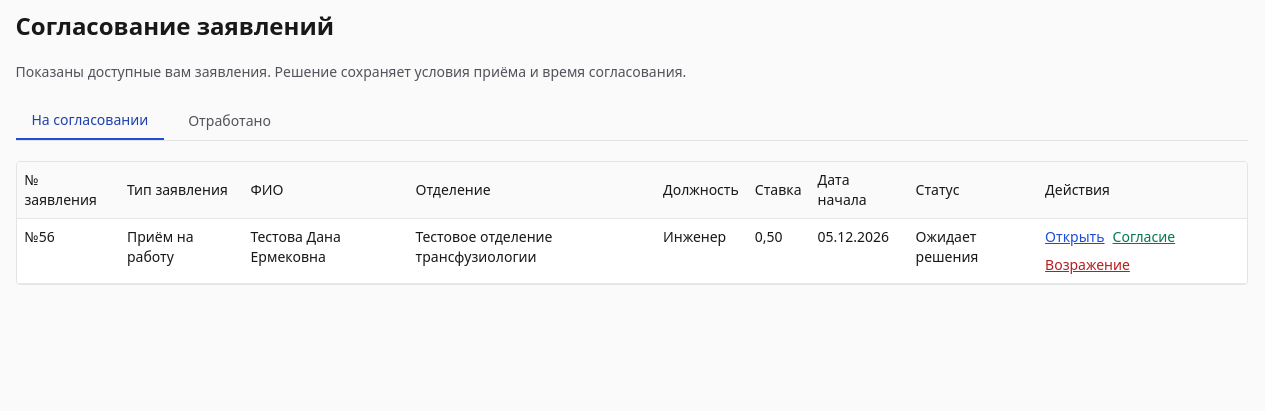
Test: HireApprovalsClient › separates pending from approved and rejected applications
Expected: the table is shown, [16,162,1246,284]
Expected: the cell "№56" is shown, [16,218,119,284]
Click the button "Отработано" at (230, 121), box [172,102,287,140]
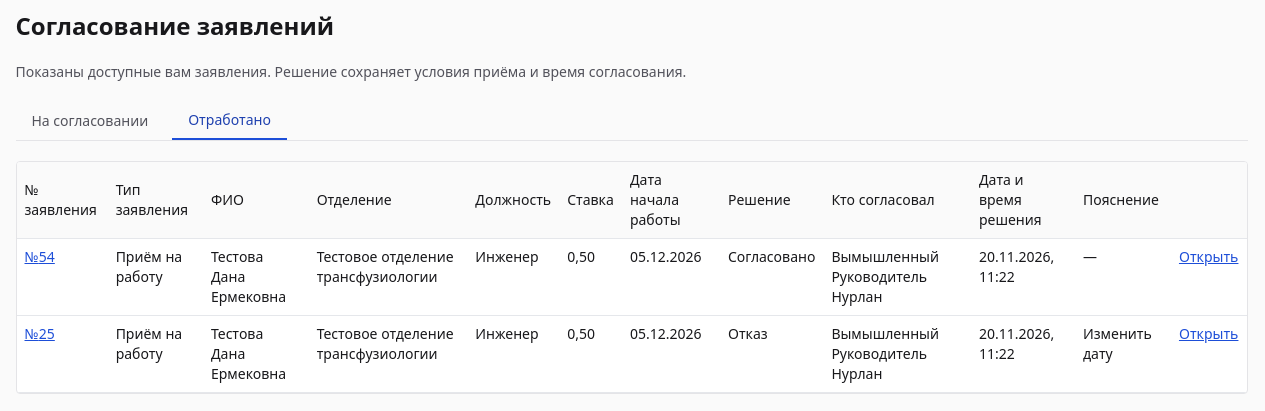
Expected: the button "№54" is shown, [24,247,55,267]
Expected: the button "№25" is shown, [24,324,55,344]
Expected: the text "Изменить дату" is shown, [1075,316,1171,392]
